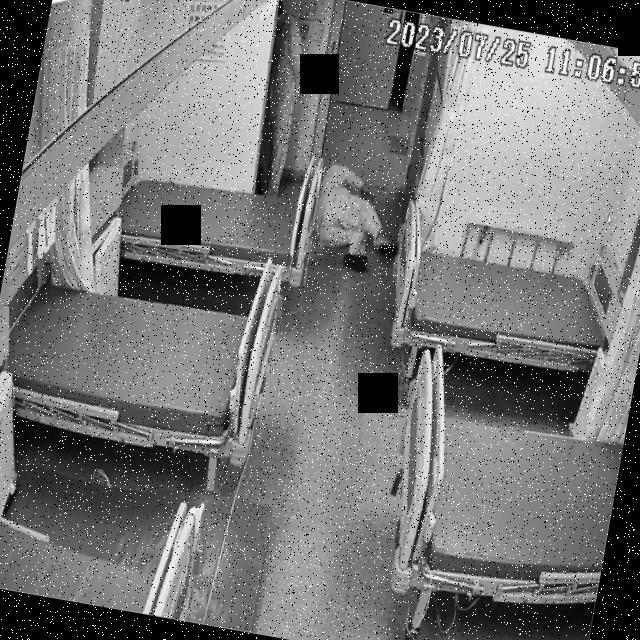bed: (376, 342, 634, 620), (0, 264, 278, 460), (379, 225, 630, 384), (114, 158, 316, 286)
fall: (306, 154, 410, 282)
patient: (248, 0, 317, 196), (307, 156, 408, 279)
stand: (246, 0, 316, 195)
